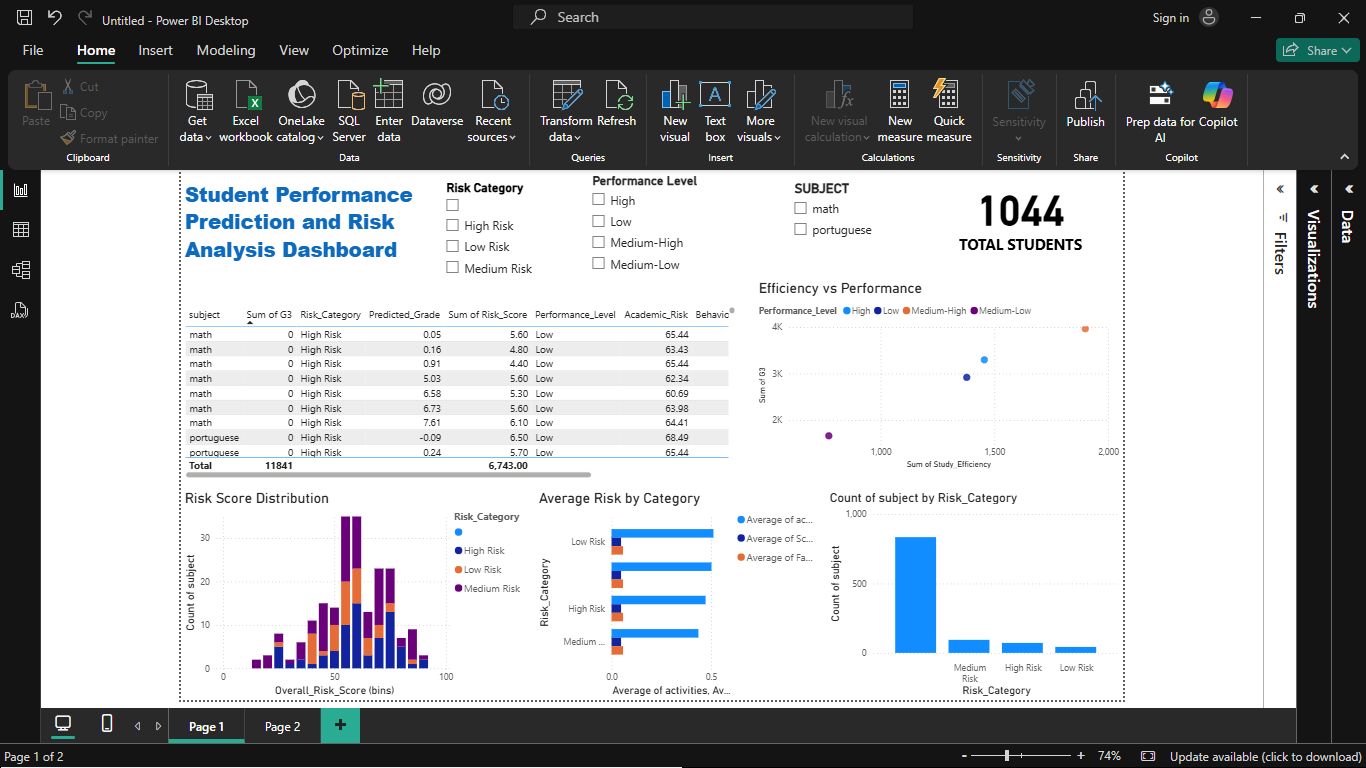

The page's visual inventory and layout, read from the dashboard file:
{"tool":"powerbi","page":{"name":"Page 1","canvas":[1280,720],"ordinal":0},"visuals":[{"type":"columnChart","fields":{"Category":["powerbi_export.Risk_Category"],"Y":["CountNonNull(powerbi_export.subject)"]},"box":[876.2,434.7,403.5,285.3],"z":0},{"type":"tableEx","fields":{"Values":["powerbi_export.subject","Sum(powerbi_export.G3)","powerbi_export.Risk_Category","powerbi_export.Predicted_Grade","Sum(powerbi_export.Risk_Score)","powerbi_export.Performance_Level","detailed_risk_analysis.Academic_Risk","detailed_risk_analysis.Behavioral_Risk","detailed_risk_analysis.Social_Risk","detailed_risk_analysis.Environmental_Risk"]},"box":[0,180.7,758,243.2],"z":1},{"type":"card","title":"TOTAL STUDENTS","fields":{"Values":["CountNonNull(powerbi_export.subject)"]},"box":[1001.2,0,278.5,118.2],"z":2},{"type":"scatterChart","title":"Efficiency vs Performance","fields":{"X":["Sum(powerbi_export.Study_Efficiency)"],"Y":["Sum(powerbi_export.G3)"],"Series":["powerbi_export.Performance_Level"]},"box":[779.8,149.4,499.9,260.8],"z":3},{"type":"slicer","fields":{"Values":["powerbi_export.subject"]},"box":[820.5,9.5,145.4,99.2],"z":4},{"type":"slicer","fields":{"Values":["powerbi_export.Performance_Level"]},"box":[546.1,0,211.9,150.8],"z":5},{"type":"slicer","fields":{"Values":["powerbi_export.Risk_Category"]},"box":[347.8,9.5,168.5,149.4],"z":6},{"type":"columnChart","title":"Risk Score Distribution","fields":{"Category":["detailed_risk_analysis.Overall_Risk_Score (bins)"],"Series":["powerbi_export.Risk_Category"],"Y":["CountNonNull(powerbi_export.subject)"]},"box":[0,434.7,480.9,285.3],"z":8},{"type":"clusteredBarChart","title":"Average Risk by Category","fields":{"Category":["powerbi_export.Risk_Category"],"Y":["Avg(powerbi_export.activities)","Avg(detailed_risk_analysis.School_Support)","Avg(detailed_risk_analysis.Family_Support)"]},"box":[480.9,434.7,395.3,285.3],"z":9},{"type":"textbox","box":[0,9,348,150],"z":10}]}

Visuals, with their boxes on the page's 1280x720 design canvas (x1, y1, x2, y2). These are canvas units, not pixel positions in the 1366x768 screenshot, which may show the page scaled, cropped or inside an application window:
columnChart - powerbi_export.Risk_Category x CountNonNull(powerbi_export.subject): (left=876, top=435, right=1280, bottom=720)
tableEx - powerbi_export.subject x Sum(powerbi_export.G3): (left=0, top=181, right=758, bottom=424)
"TOTAL STUDENTS" card: (left=1001, top=0, right=1280, bottom=118)
"Efficiency vs Performance" scatterChart: (left=780, top=149, right=1280, bottom=410)
slicer - powerbi_export.subject: (left=820, top=10, right=966, bottom=109)
slicer - powerbi_export.Performance_Level: (left=546, top=0, right=758, bottom=151)
slicer - powerbi_export.Risk_Category: (left=348, top=10, right=516, bottom=159)
"Risk Score Distribution" columnChart: (left=0, top=435, right=481, bottom=720)
"Average Risk by Category" clusteredBarChart: (left=481, top=435, right=876, bottom=720)
textbox: (left=0, top=9, right=348, bottom=159)
